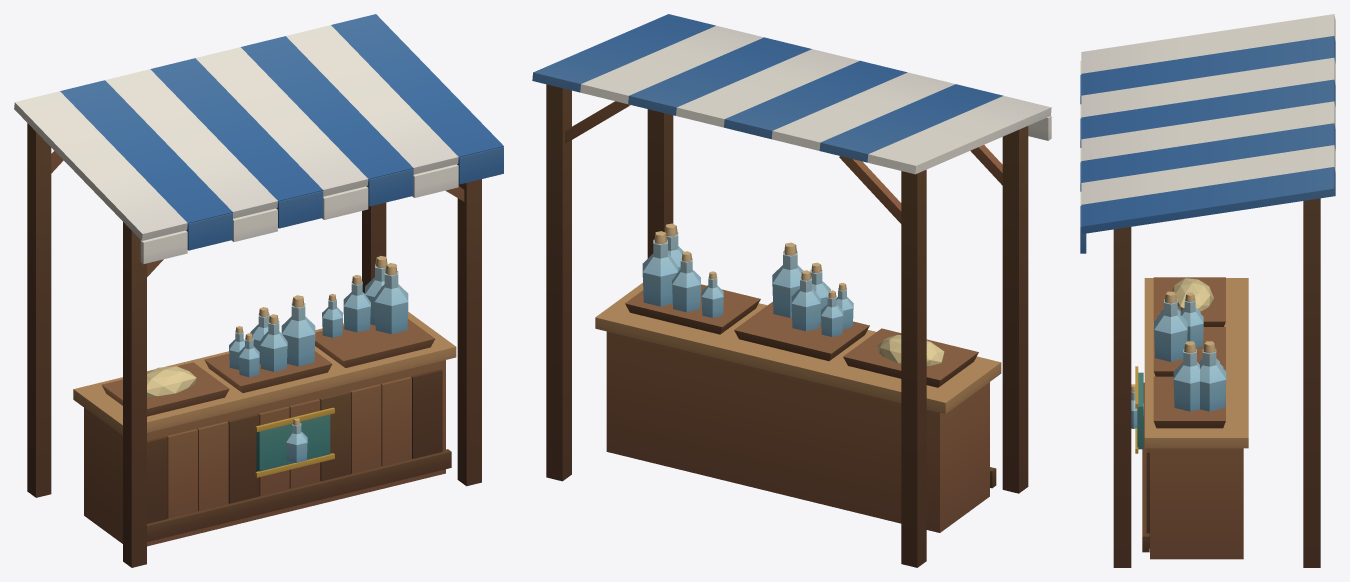
Rendered from stall_lio.glb.
3 views of the same model, side by side, from view 1: azimuth 30°, elevation 25°; view 2: azimuth 150°, elevation 25°; view 3: azimuth 270°, elevation 25° (orthographic). The views are drawn at different scales.
Parts seen in each view (by area): view 1: stall_lio; view 2: stall_lio; view 3: stall_lio.
Part boxes in pixels (<box>): stall_lio: <box>14,14,503,567</box>; stall_lio: <box>532,14,1051,567</box>; stall_lio: <box>1080,14,1335,567</box>.
Bounding box in the file's own units: 8.96 × 9.14 × 5.54.
1 material, 1 textured.
